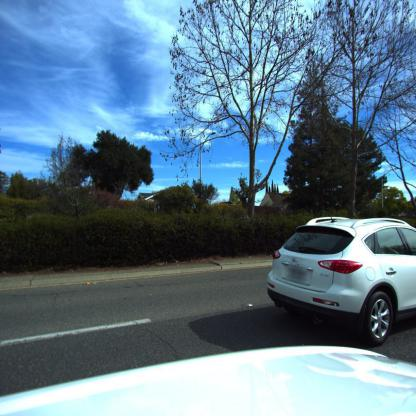car: (266, 217, 416, 346)
